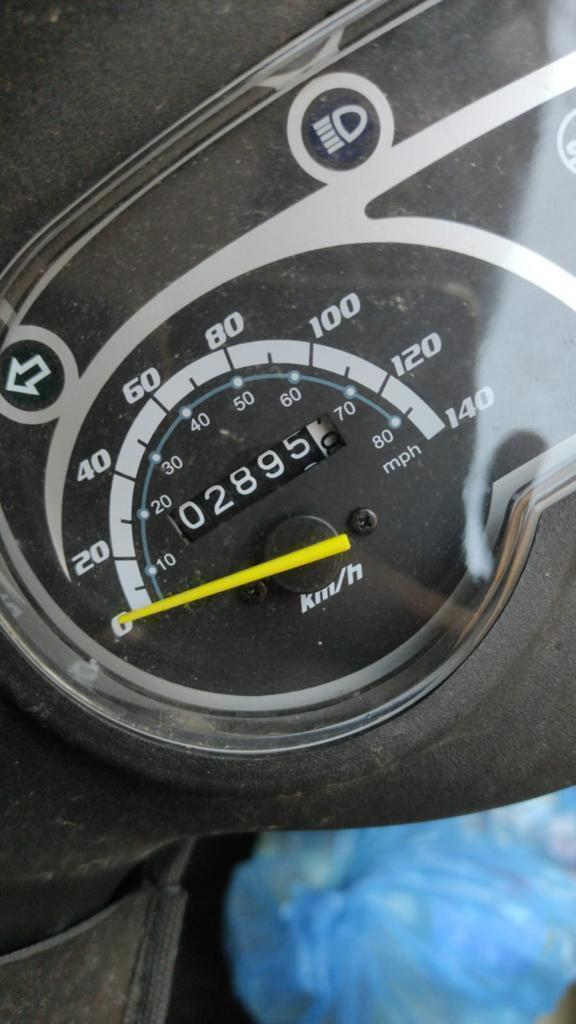0: (176, 498, 205, 530), (197, 411, 209, 426), (170, 454, 182, 469), (160, 493, 172, 508)
2: (203, 483, 233, 515)
3: (160, 460, 174, 476)
4: (189, 416, 200, 432)
5: (280, 427, 311, 461)
7: (332, 408, 344, 422)
8: (228, 464, 258, 497), (318, 428, 346, 457)
9: (257, 447, 285, 479)
odometer: (158, 408, 350, 549)
